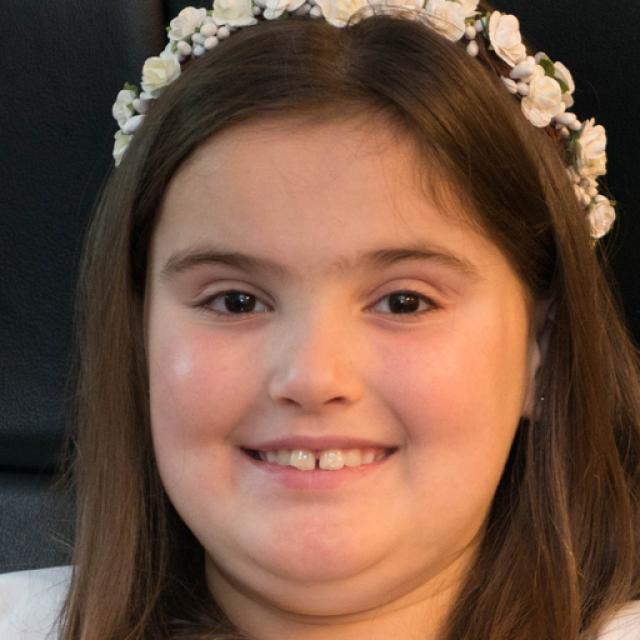happy: (148, 106, 526, 582)
